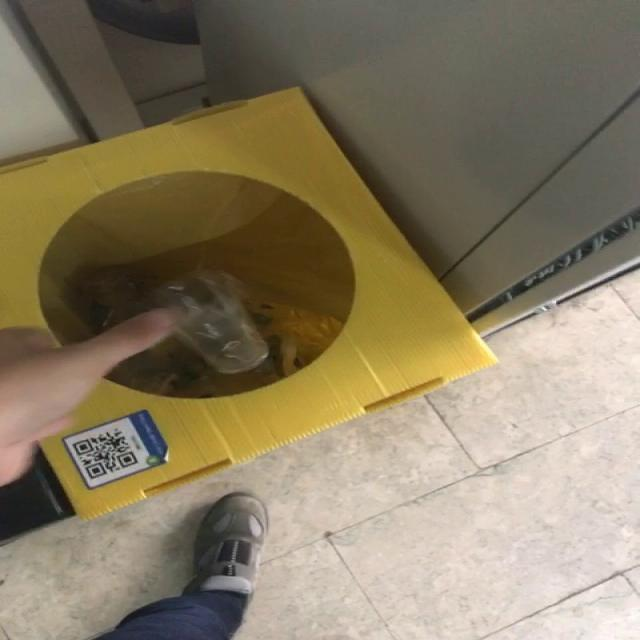plastic: (153, 271, 268, 374)
